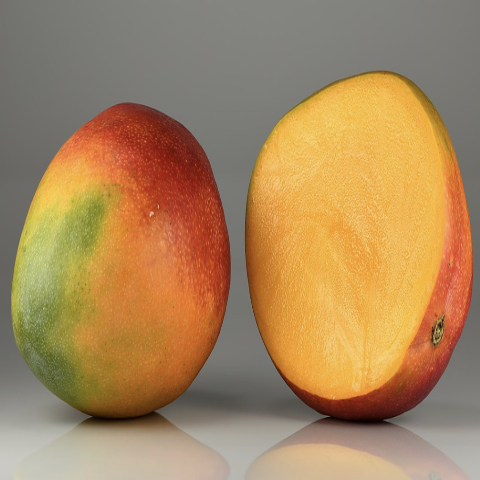mango: (241, 53, 478, 459), (6, 97, 236, 453)
